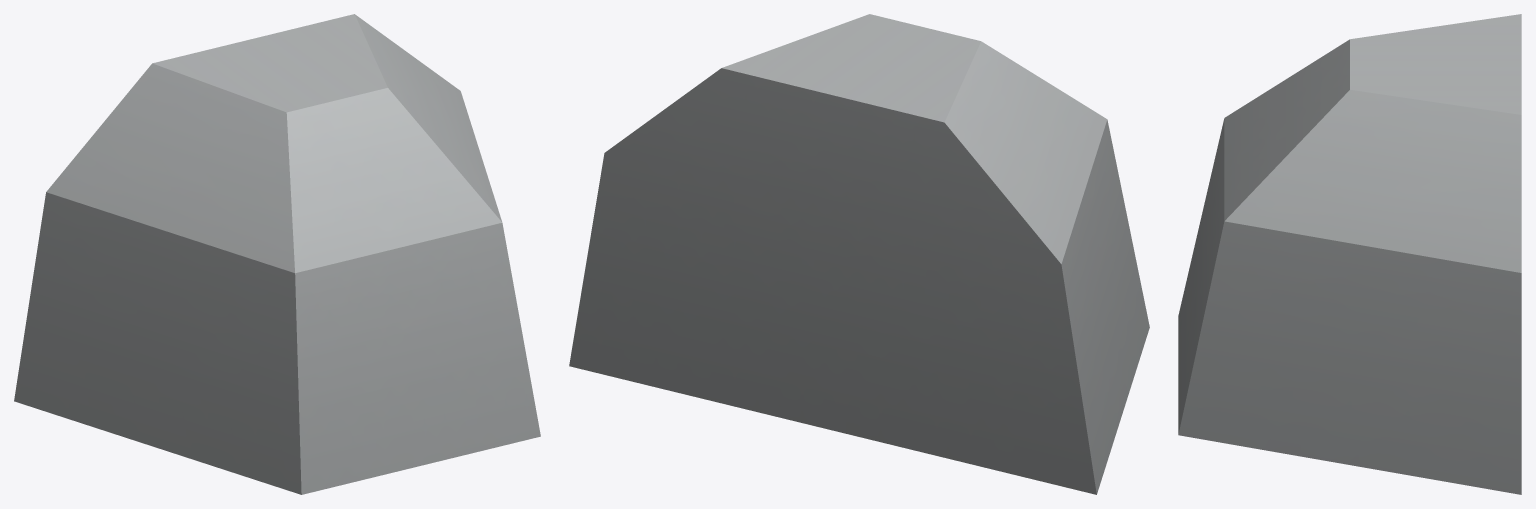
File: stone_3.fbx
The picture shows the model from 3 angles, left to right: view 1: azimuth 30°, elevation 25°; view 2: azimuth 150°, elevation 25°; view 3: azimuth 270°, elevation 25°; orthographic projection. The views are drawn at different scales.
Visible parts, largest first — view 1: stone_3; view 2: stone_3; view 3: stone_3.
Boxes of the visible parts, bbox=[...] form: stone_3: bbox=[14, 14, 540, 494]; stone_3: bbox=[569, 14, 1149, 494]; stone_3: bbox=[1178, 14, 1521, 494].
Bounding box in the file's own units: 1.43 × 0.866 × 0.866.
Materials: 1 (1 with a texture image).
